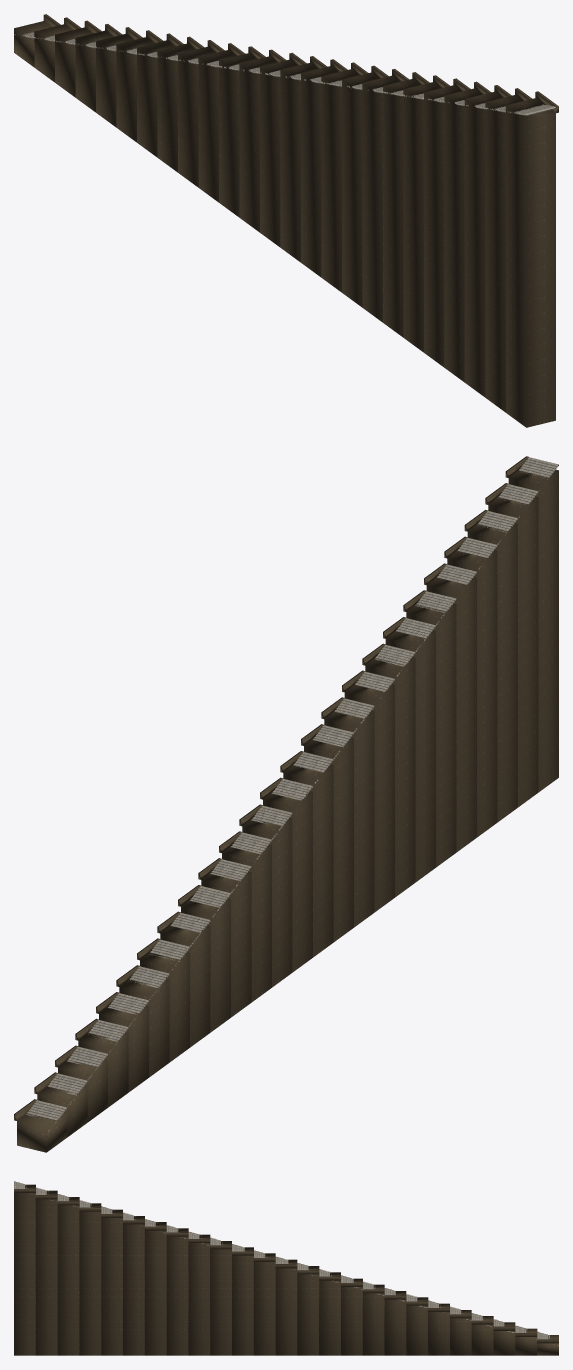
Rendered from harbor_stairs.glb.
3 views of the same model, one above another, from view 1: azimuth 30°, elevation 25°; view 2: azimuth 150°, elevation 25°; view 3: azimuth 270°, elevation 25° (orthographic). The views are drawn at different scales.
Parts seen in each view (by area): view 1: harbor_stairs; view 2: harbor_stairs; view 3: harbor_stairs.
Part boxes in pixels (left/top/right/bottom): harbor_stairs: left=14, top=14, right=558, bottom=427; harbor_stairs: left=14, top=456, right=558, bottom=1152; harbor_stairs: left=14, top=1181, right=558, bottom=1355.
Size of the model in its own units: 5.5 by 50.65 by 150.
2 materials, 2 textured.
